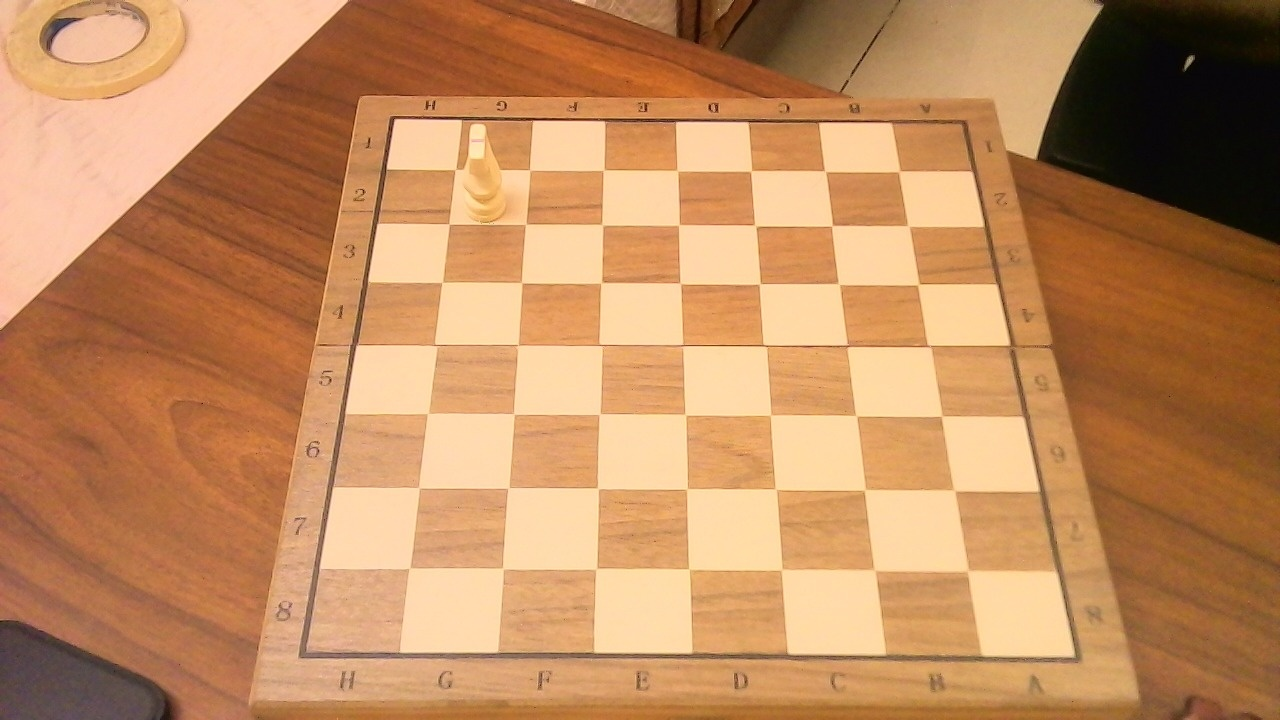N: (456, 112, 513, 224)
